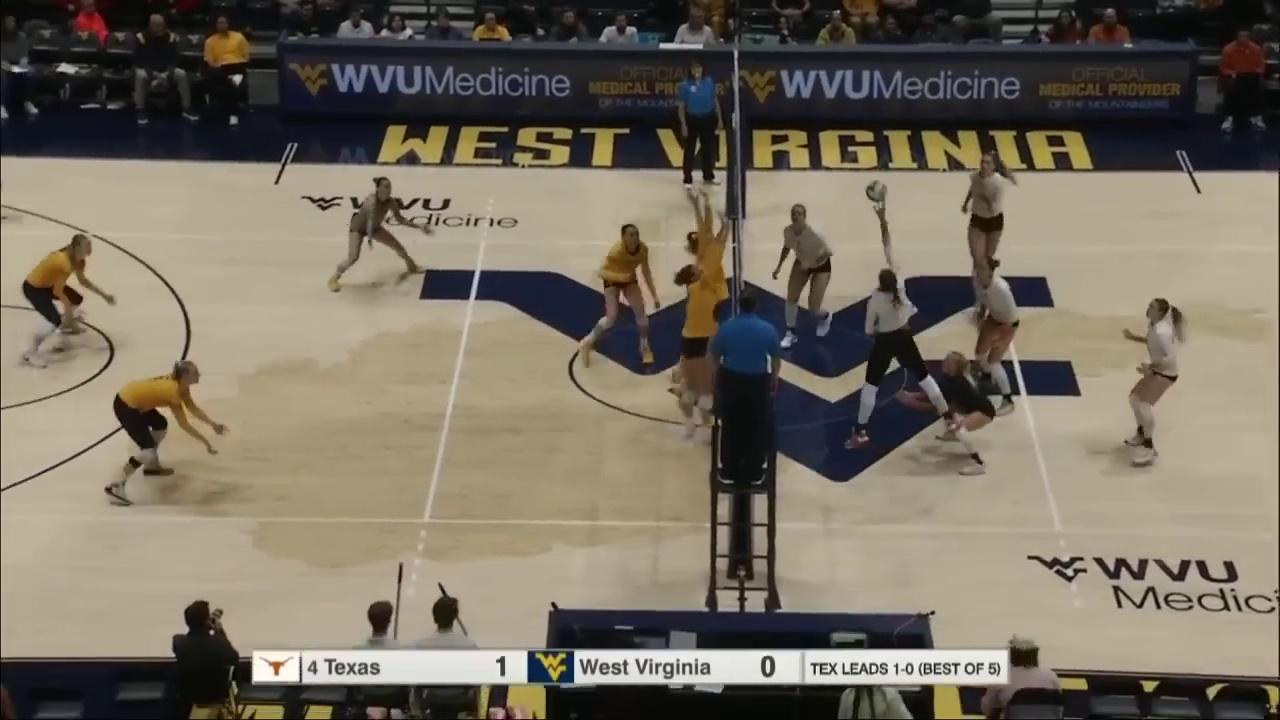player: (844, 202, 962, 449), (106, 361, 226, 500), (22, 232, 119, 367), (326, 176, 433, 292), (671, 193, 728, 407), (897, 352, 995, 475), (579, 224, 657, 367), (1121, 297, 1187, 465), (679, 231, 723, 440), (773, 203, 834, 348), (963, 151, 1017, 303), (974, 257, 1020, 413)
refree: (709, 287, 781, 483), (679, 60, 725, 191)
